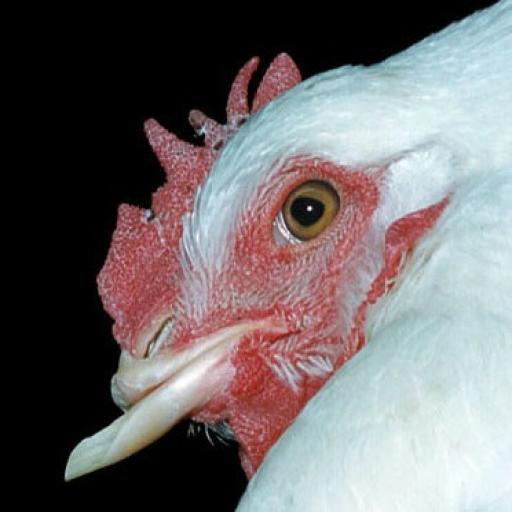disease: (193, 112, 231, 156), (128, 190, 164, 235), (233, 98, 260, 138)
